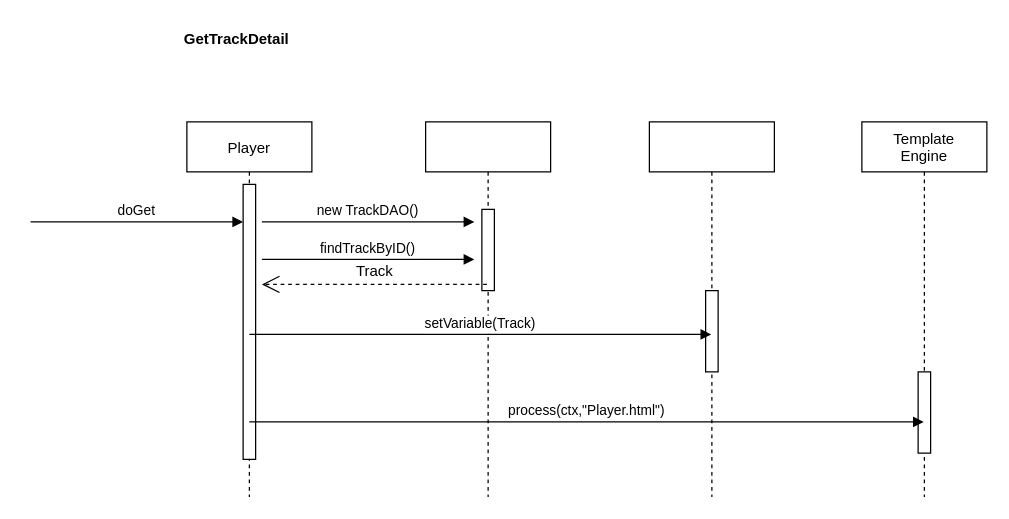
This 1009x519 diagram has some shape labels left out. Here are the shapes that lost their labels. From the top down, the centre of each, then its label:
At point 487,309: "TrackDAO".
At point 711,309: "ctx".
